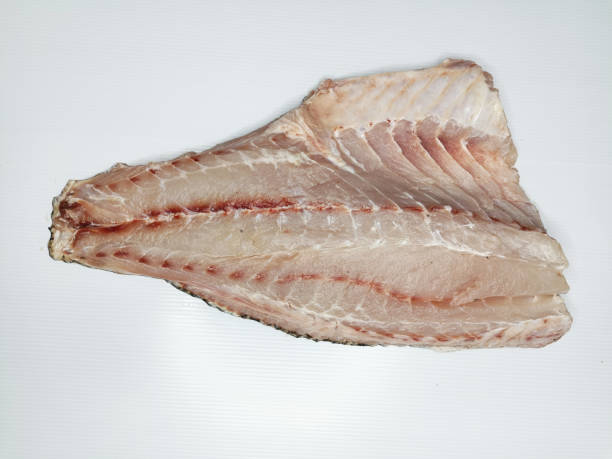bream-fish: (47, 58, 574, 351)
